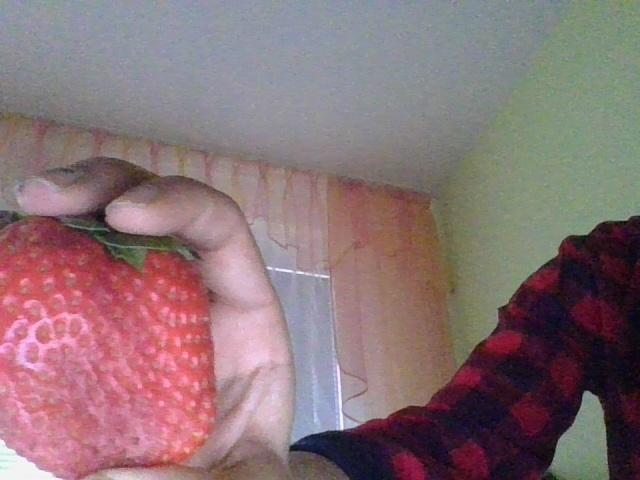ripe: (5, 216, 217, 473)
